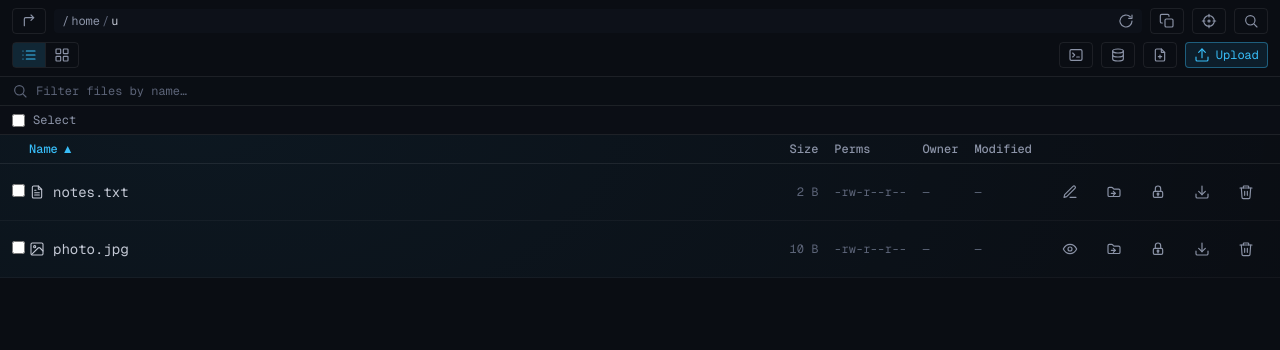
Scenario: FileBrowser grid view (Phase 8) › renders tiles after switching to grid view
The image size is (1280, 350).
Step 1. Click the button named "Grid view" → x=62, y=55, box [45,43,78,67]
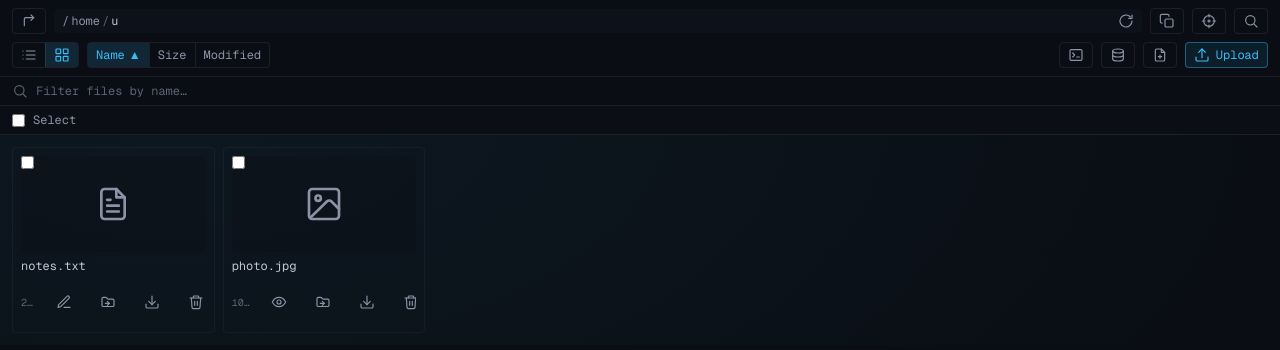
Expected: the button named "Open photo.jpg" is shown, [232,156,416,252]
Expected: the button named "Open notes.txt" is shown, [21,156,206,252]
